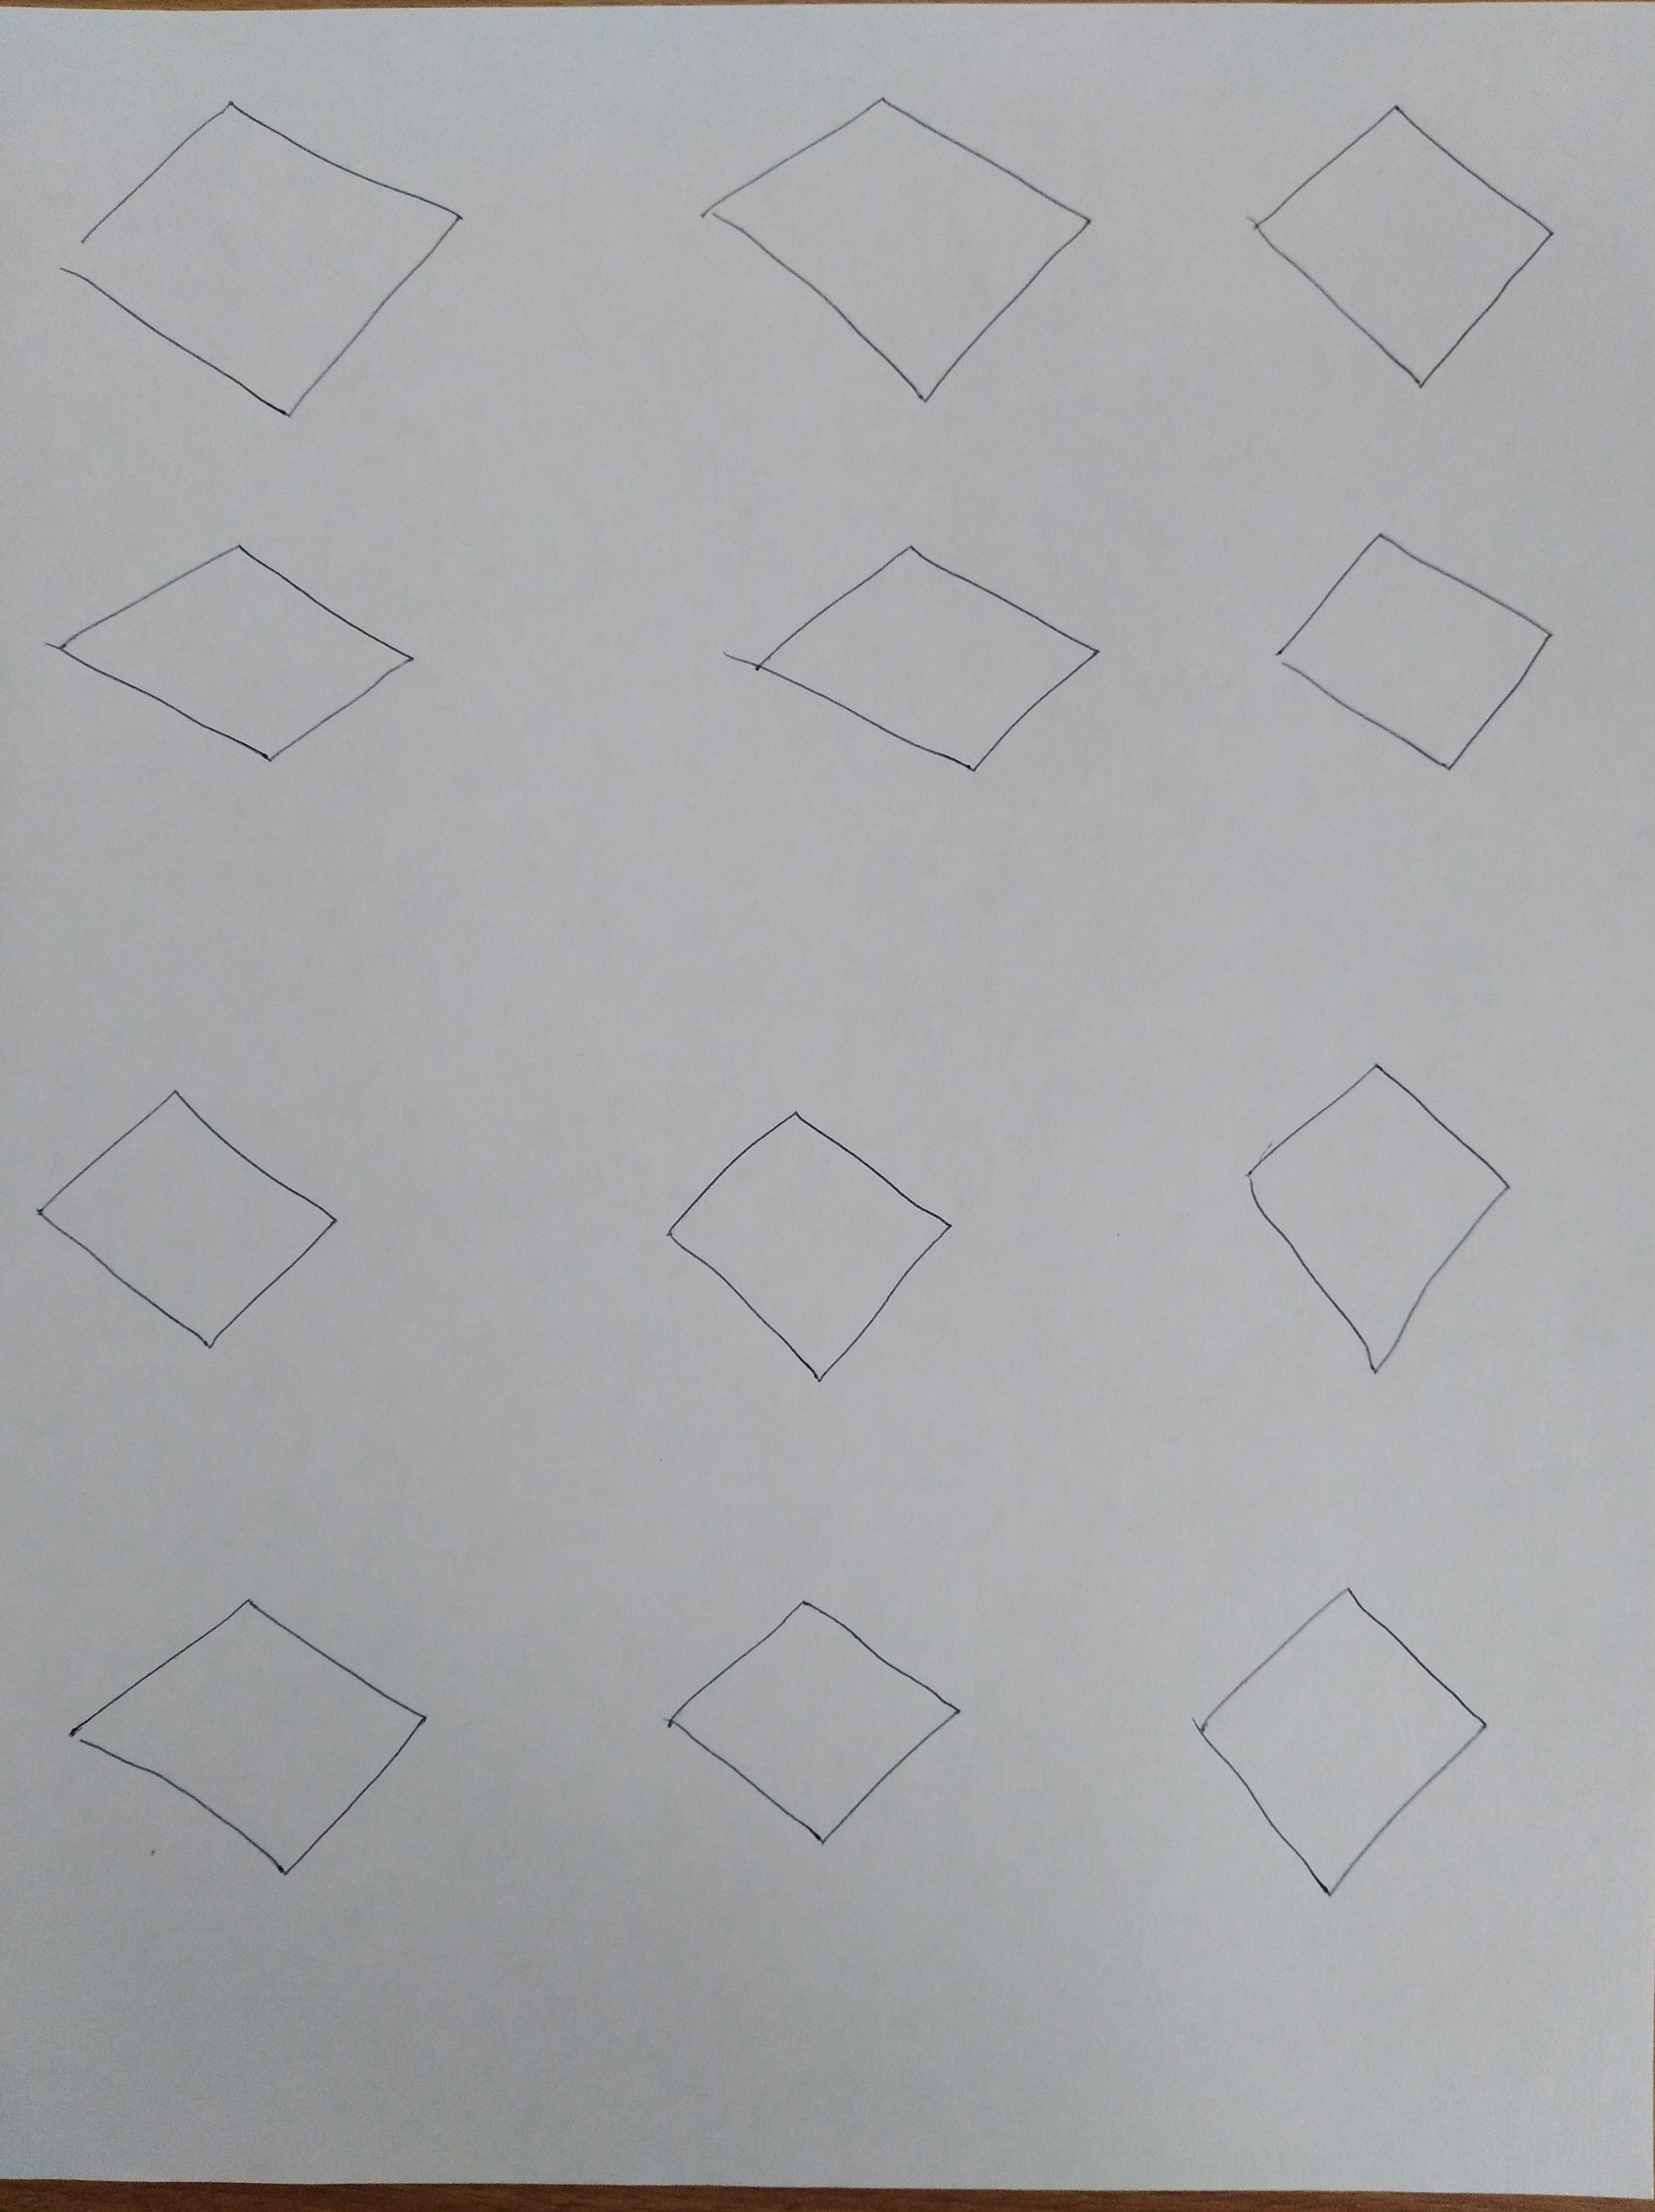decision: (31, 68, 480, 441), (680, 57, 1114, 421), (38, 1557, 482, 1910), (615, 1550, 1019, 1885), (1153, 1550, 1511, 1927), (1203, 1018, 1540, 1418), (1226, 61, 1579, 417), (702, 514, 1151, 791), (30, 500, 443, 794), (629, 1063, 984, 1402), (21, 1051, 372, 1373), (1250, 513, 1582, 794)
